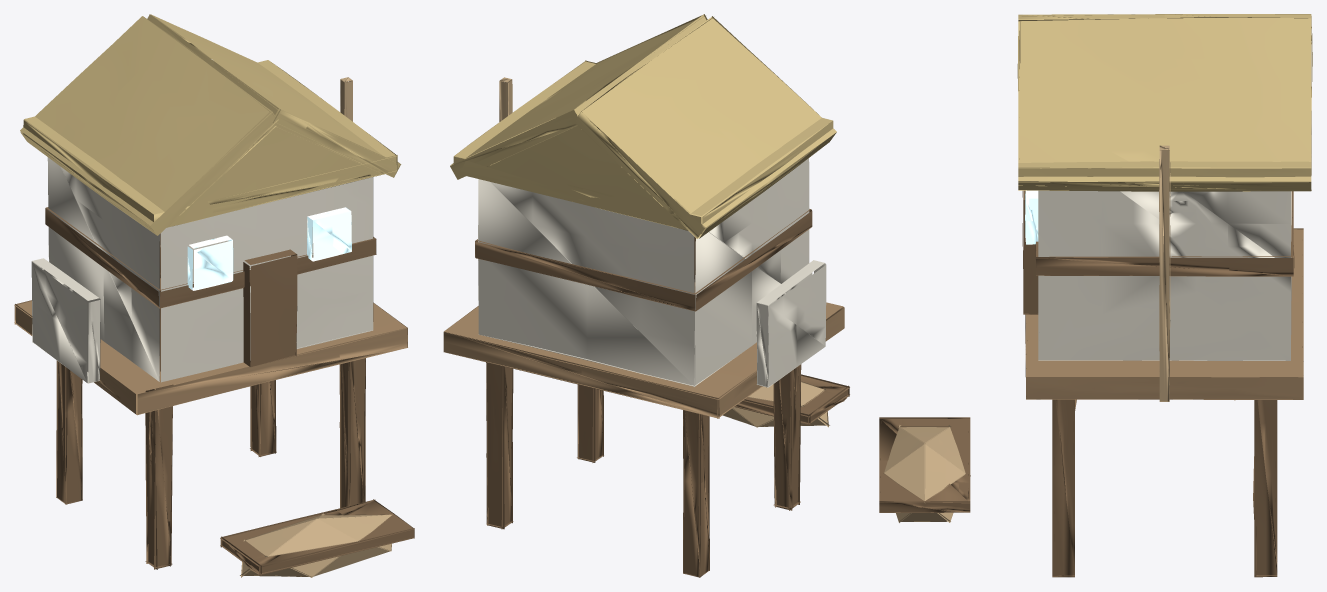
File: fishery.glb
3 renders of one model, left to right at view 1: azimuth 30°, elevation 25°; view 2: azimuth 150°, elevation 25°; view 3: azimuth 270°, elevation 25°, orthographic. The views are drawn at different scales.
Parts seen in each view (by area): view 1: Pile-0.5-0.4; view 2: Pile-0.5-0.4; view 3: Pile-0.5-0.4.
Part boxes in pixels (<box>): Pile-0.5-0.4: <box>14,14,414,577</box>; Pile-0.5-0.4: <box>443,14,849,577</box>; Pile-0.5-0.4: <box>879,14,1312,577</box>.
Size of the model in its own units: 1.51 by 2.21 by 1.72.
